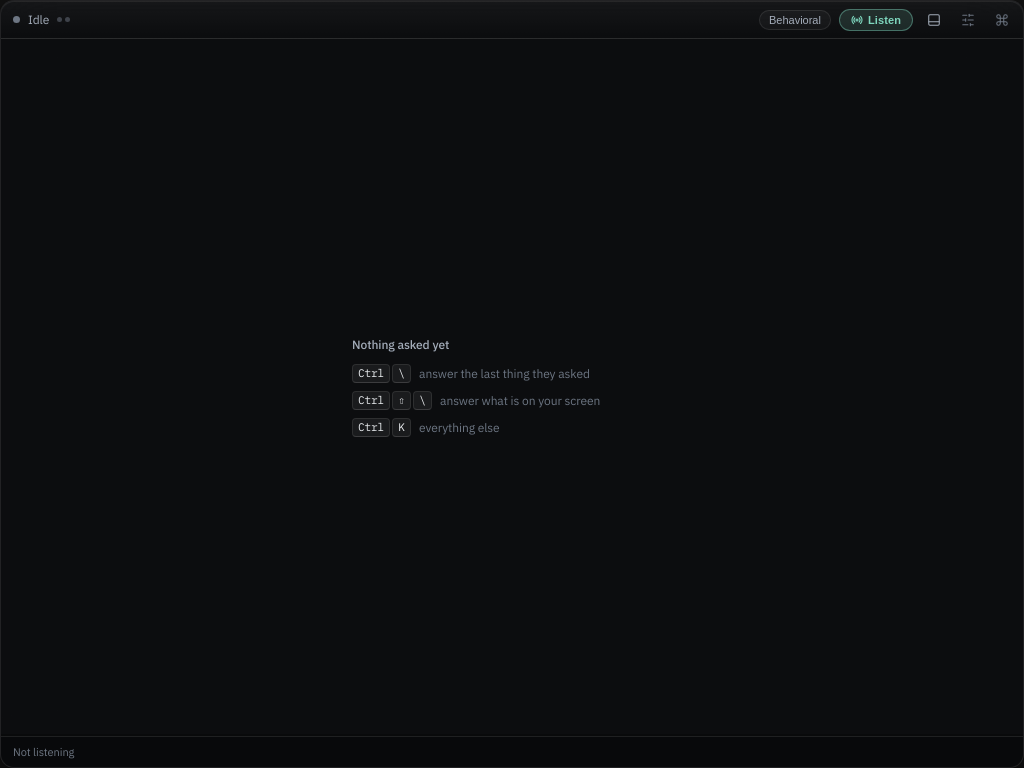
Scenario: App boot › the transcript rail can be collapsed and restored from the HUD bar
The width and height of the screenshot is (1024, 768).
Expected: the element with class "transcript-area" is shown, [1, 736, 1023, 767]
Click the button named "Hide transcript": (934, 20) [921, 6, 947, 32]
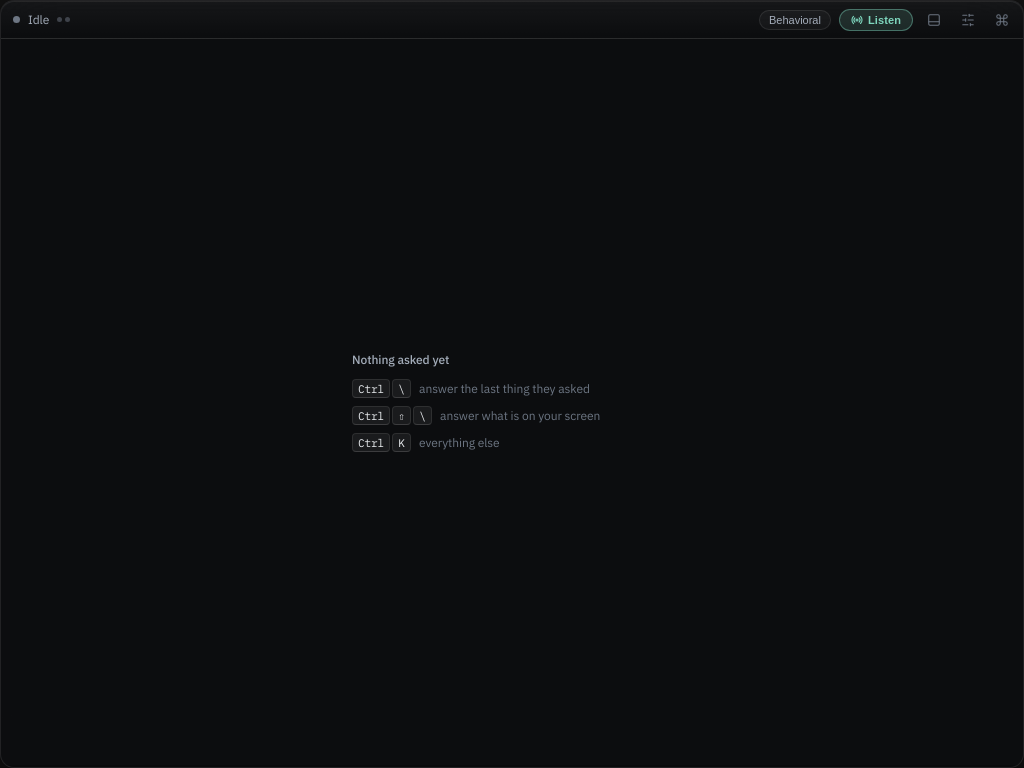
Expected: the element with class "transcript-area" is gone
Click the button named "Show transcript": (934, 20) [921, 6, 947, 32]
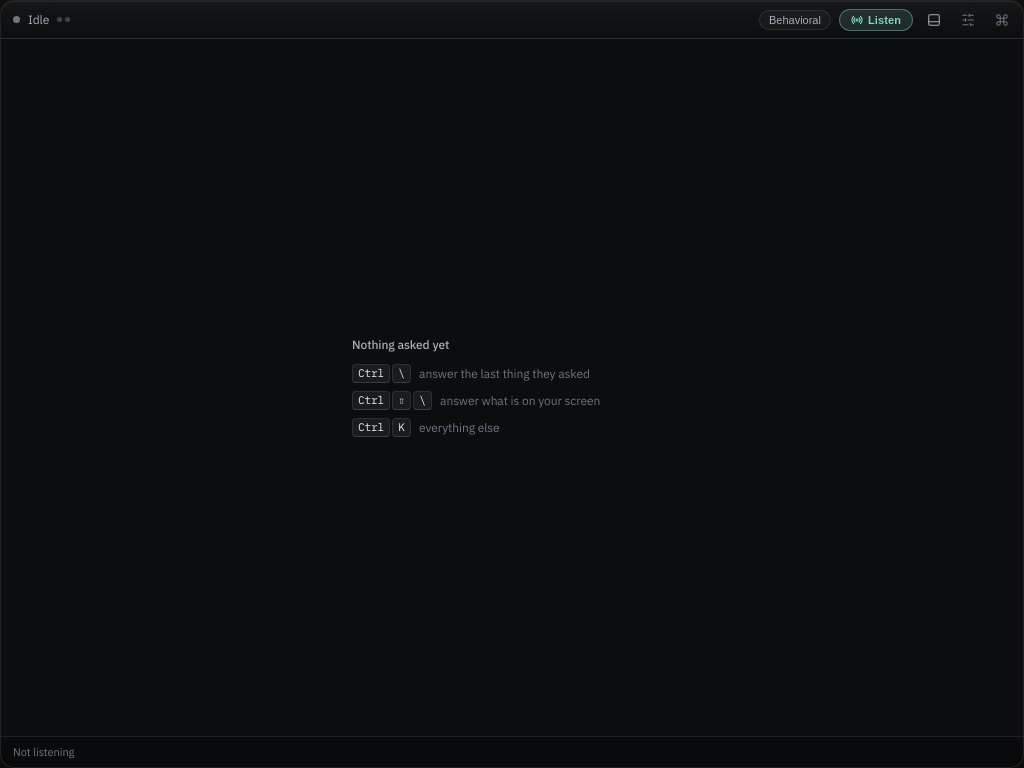
Expected: the element with class "transcript-area" is shown, [1, 736, 1023, 767]
